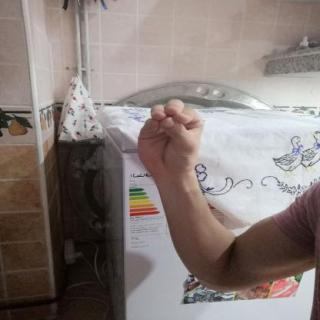HA: (125, 93, 213, 182)
